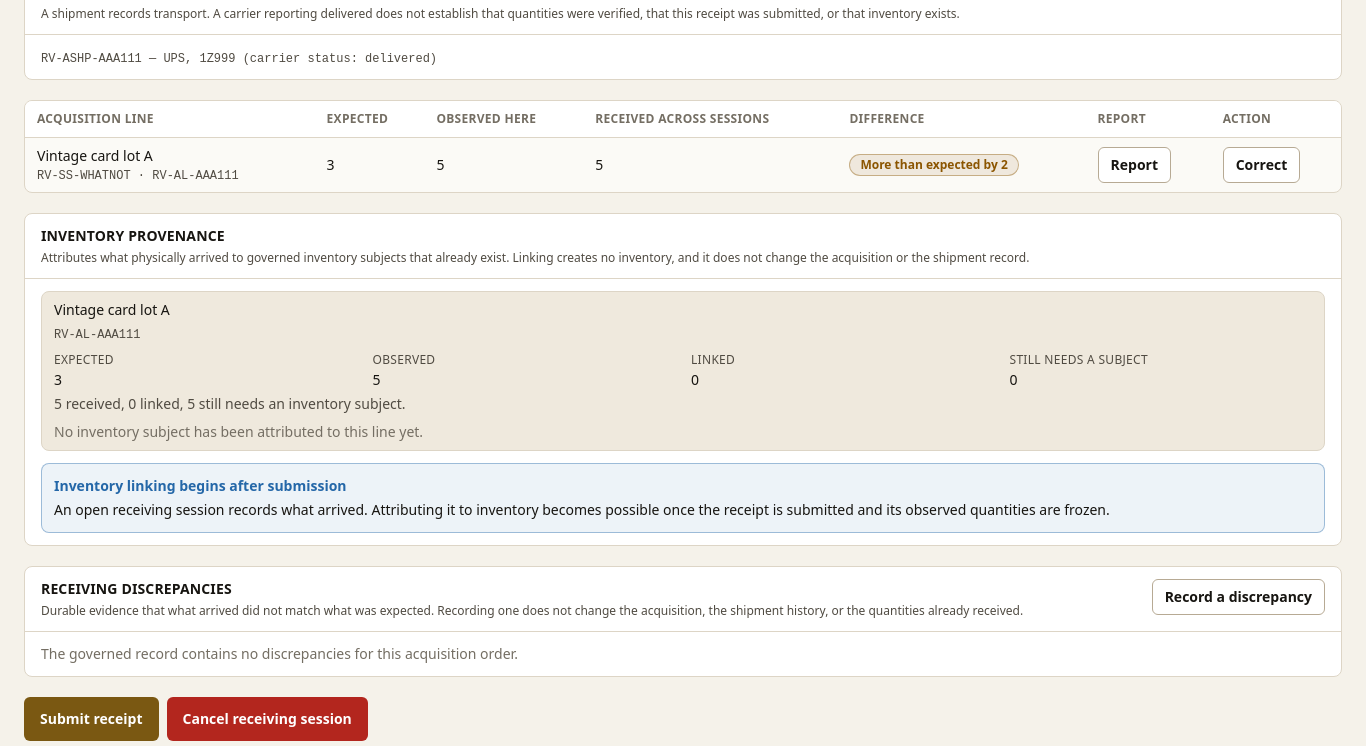
Test: submitting a receipt › reports the submitted outcome without claiming inventory was created
(page scrolled)
Expected: the text "Vintage card lot A" in the row of "More than expected" is shown, top-left (37, 146), bottom-right (153, 165)
Click the button "Submit receipt" at (91,719), box top-left (24, 697), bottom-right (158, 741)
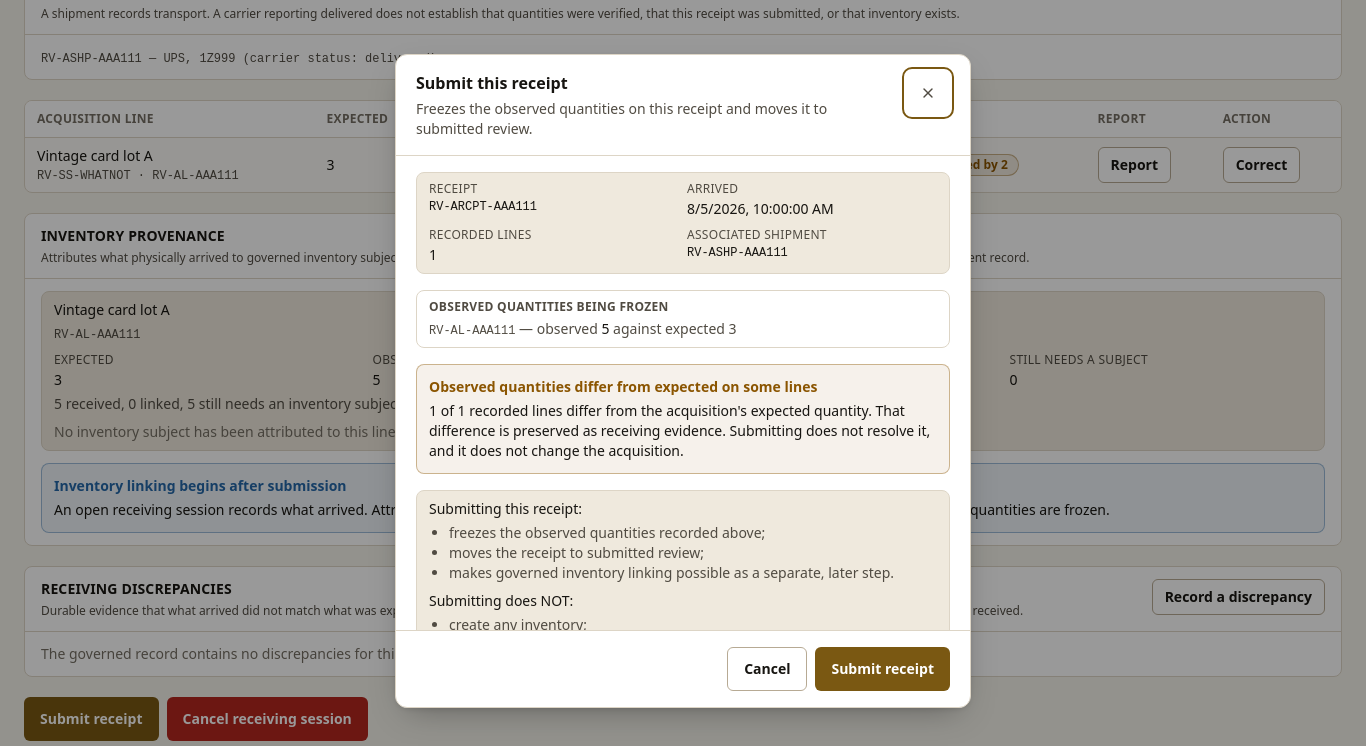
Click the button "Submit receipt" at (883,669), box top-left (816, 647), bottom-right (950, 691)
(page scrolled)
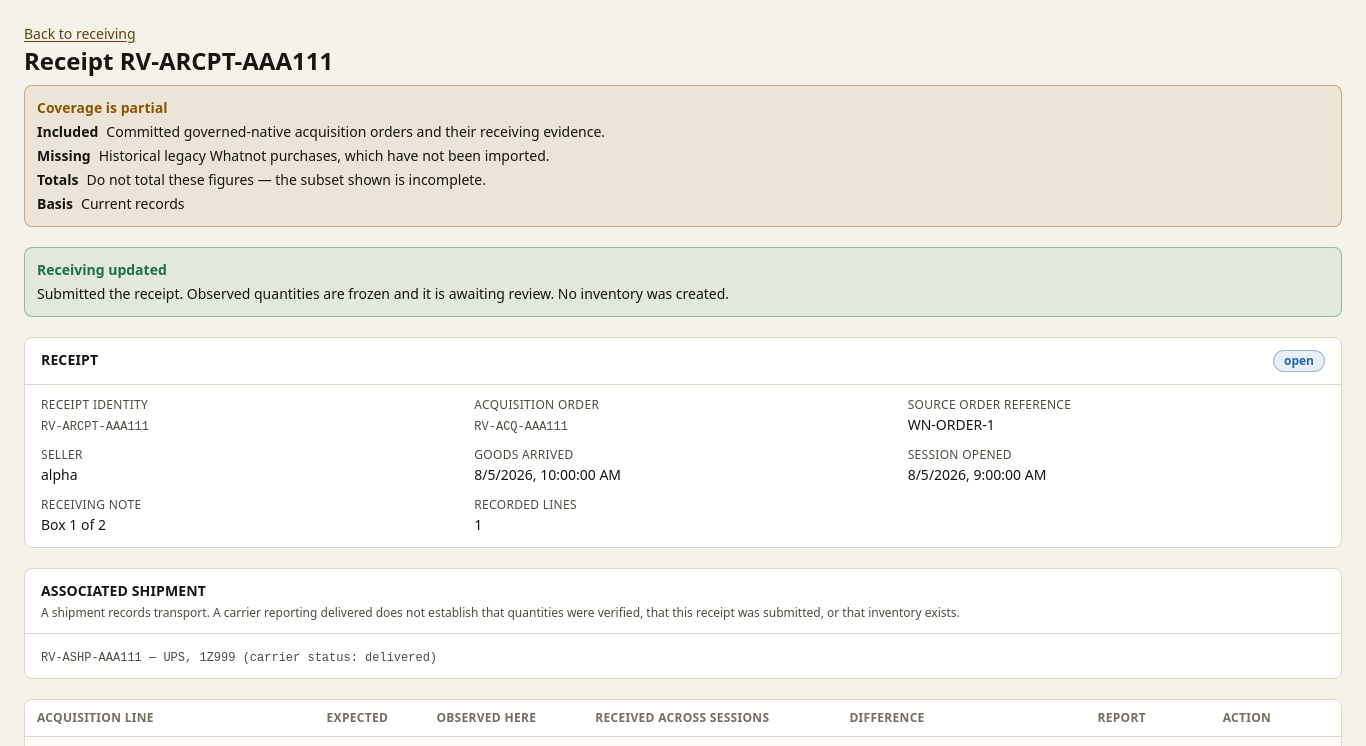
Now the text "No inventory was created" is shown, box top-left (37, 284), bottom-right (729, 303)
